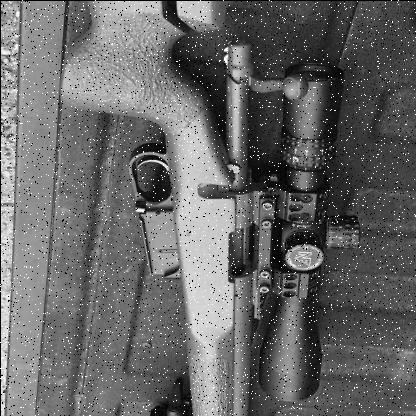rifle: (49, 1, 334, 416)
